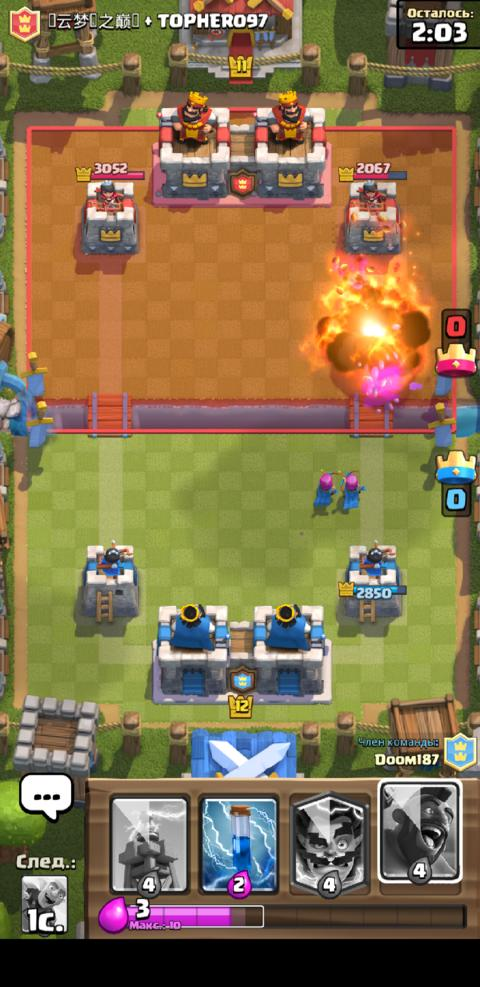ally_archer: (312, 467, 340, 508), (339, 469, 367, 510)
